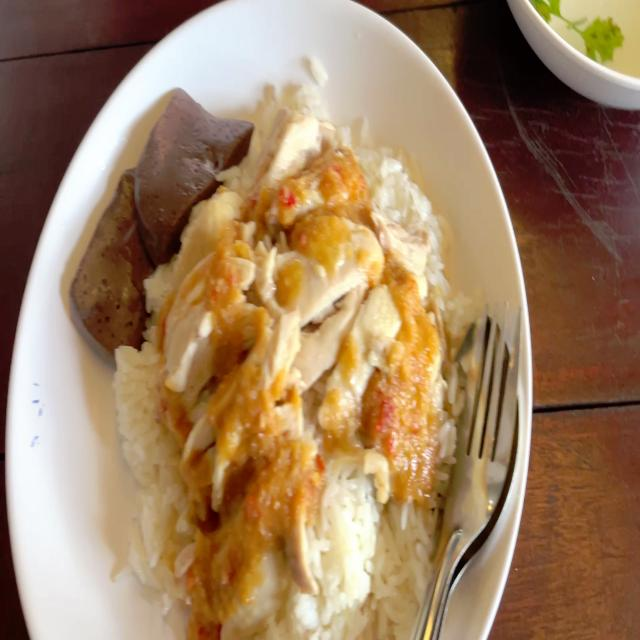boiled_chicken: (172, 156, 404, 522)
boiled_chicken_blood_jelly: (135, 89, 244, 237), (74, 161, 154, 333)
chicken_rice: (72, 59, 468, 636)
